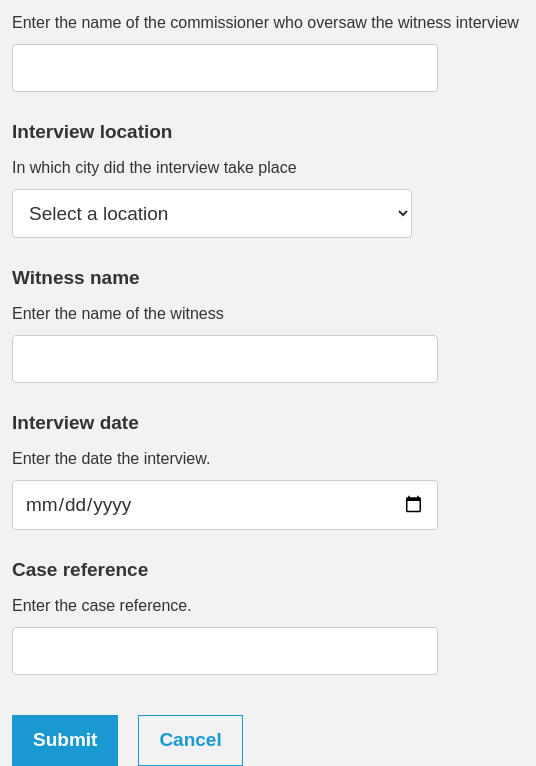
Test: MetadataPage Component › displays error messages when submitting an empty form
The width and height of the screenshot is (536, 766).
(page scrolled)
Step 1. Click the button with aria-label "Submit metadata" → coordinates (65, 740), box [12, 715, 118, 765]
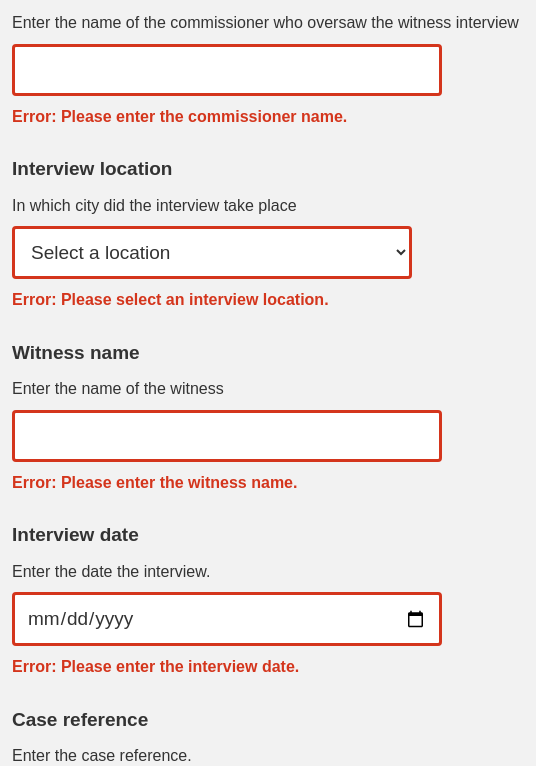
Result: the text "Error: Please enter the commissioner name." is shown at [12, 108, 347, 125]
Result: the text "Error: Please select an interview location." is shown at [12, 291, 329, 308]
